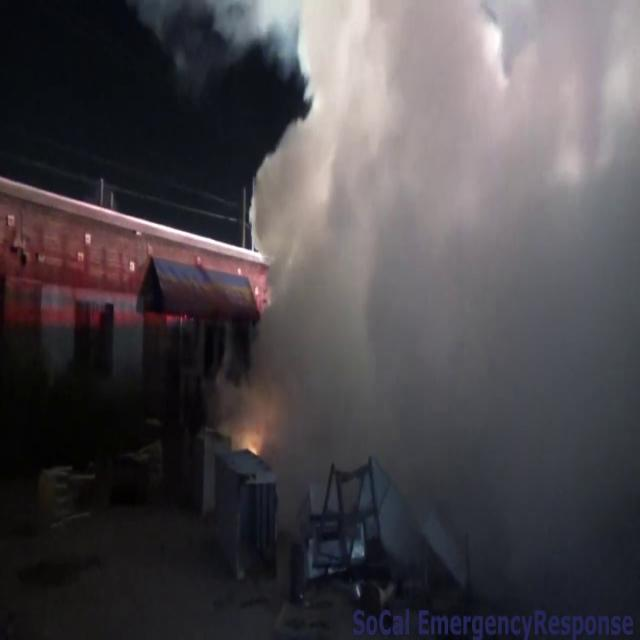Smoke: (237, 0, 640, 611)
